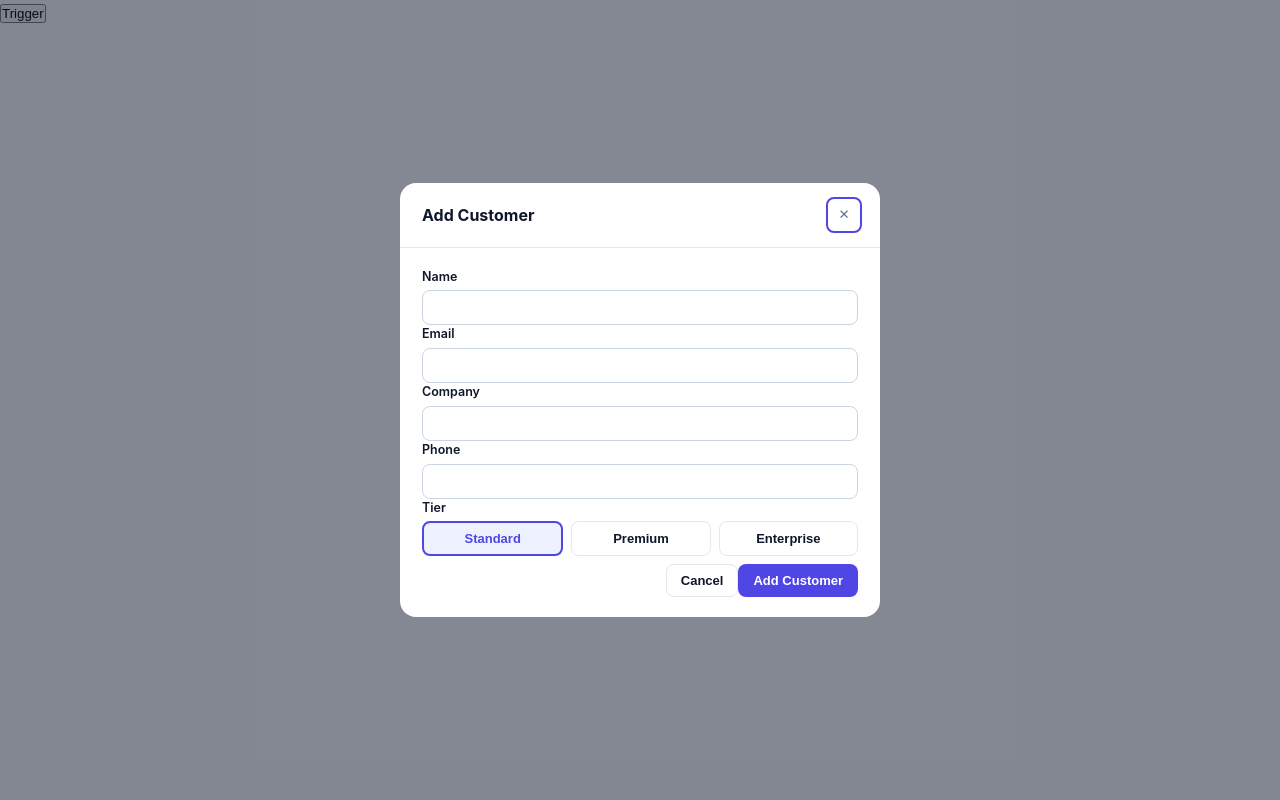
Test: CustomerFormModal › maps a 422 onto its field
The width and height of the screenshot is (1280, 800).
Type "Jane Doe" into the field labelled "Name" at (640, 308), box [422,290,858,325]
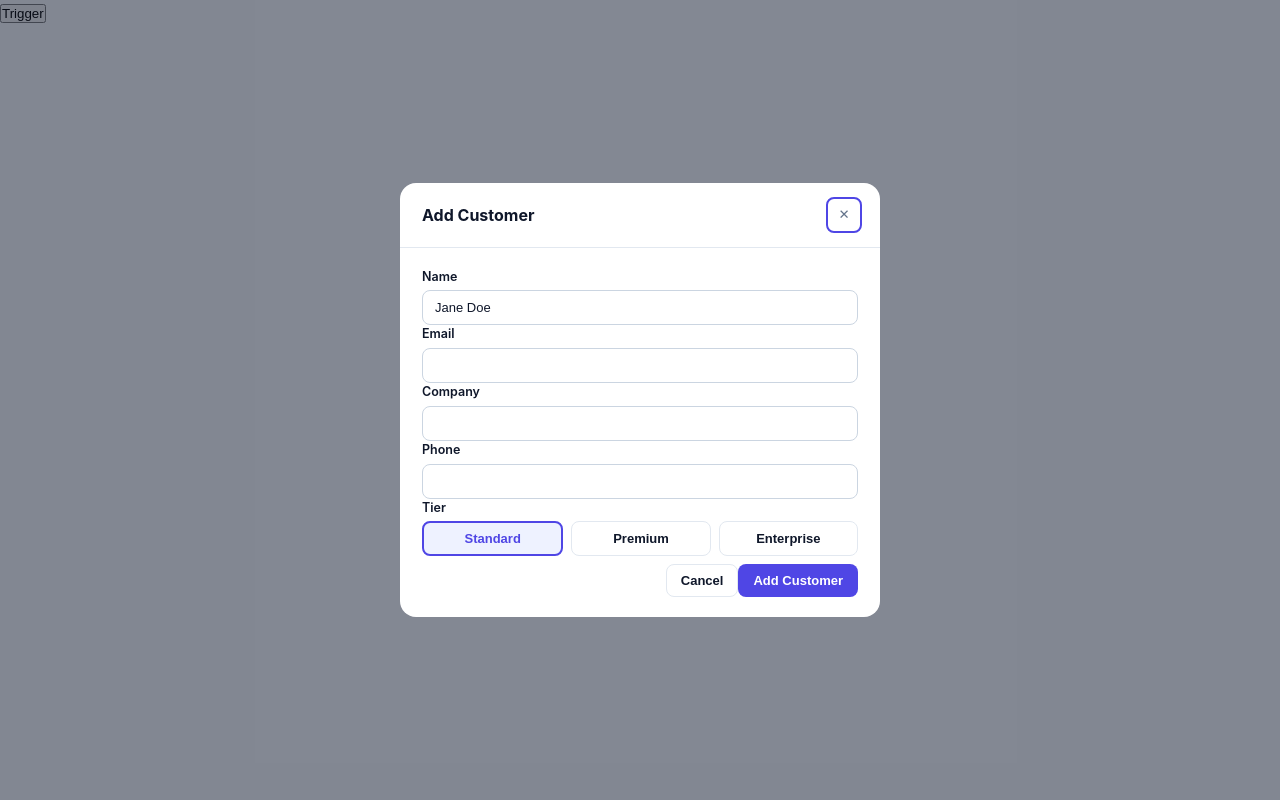
Type "jane@example.com" into the field labelled "Email" at (640, 366), box [422,348,858,383]
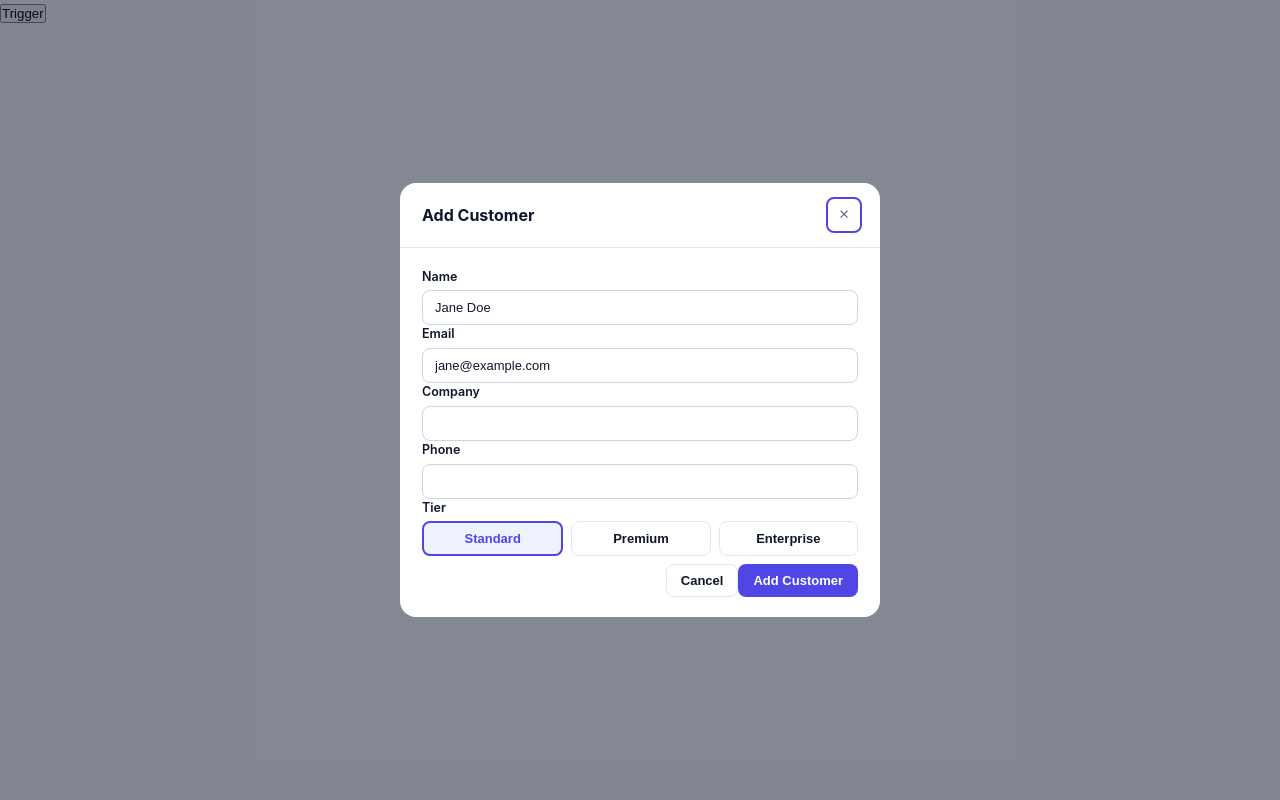
Click the button "Add Customer" at (798, 581), box [738,564,858,597]
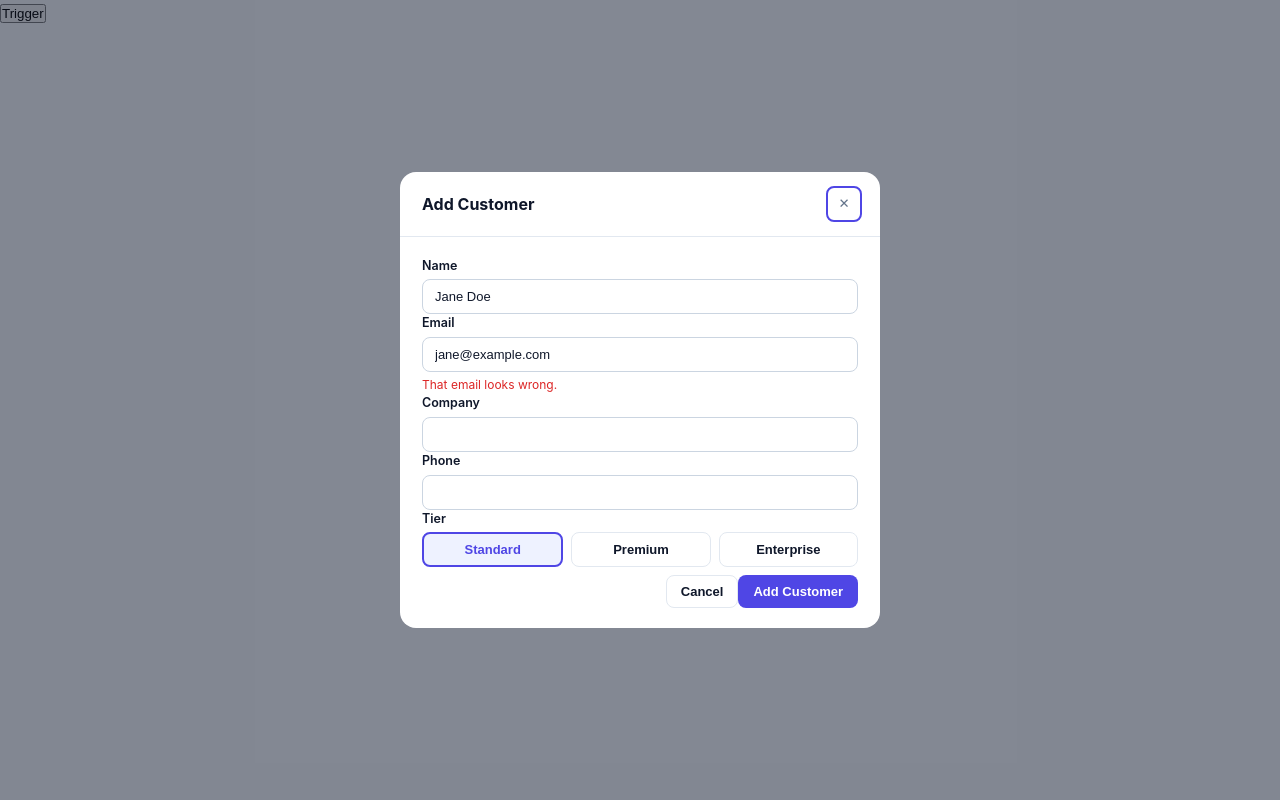
Expected: the text "That email looks wrong." is shown, [422,377,557,392]
